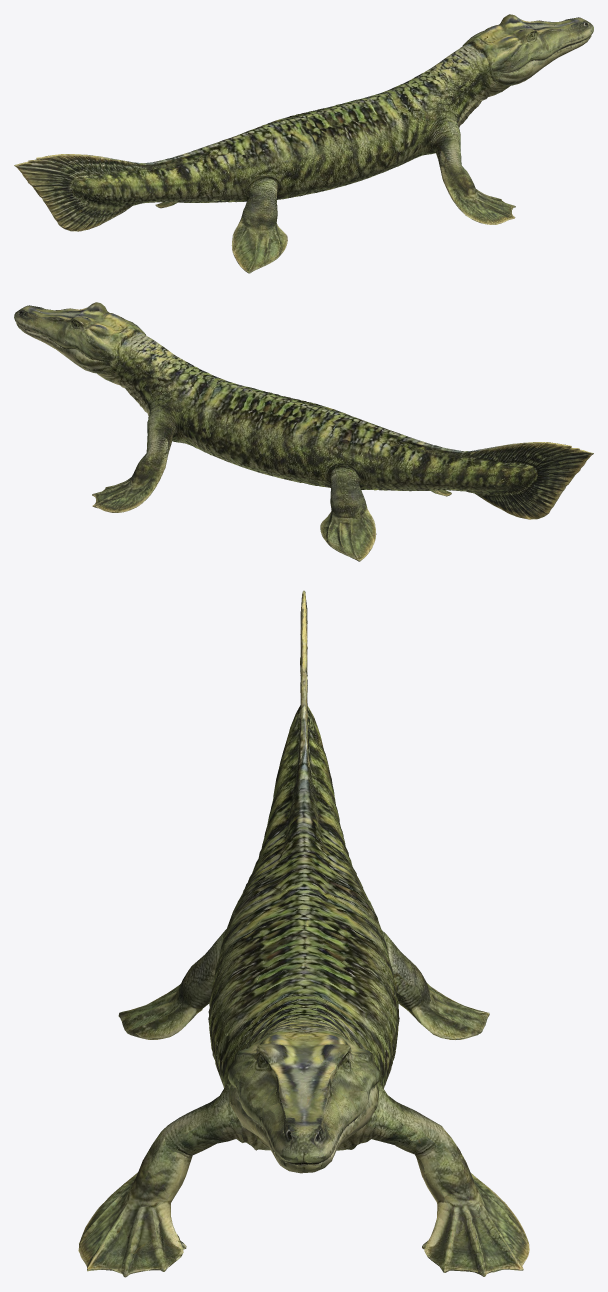
File: tiktaalik.glb
The picture shows the model from 3 angles, top to bottom: view 1: azimuth 30°, elevation 25°; view 2: azimuth 150°, elevation 25°; view 3: azimuth 270°, elevation 25°; orthographic projection. The views are drawn at different scales.
Visible parts, largest first — view 1: Mesh_0; view 2: Mesh_0; view 3: Mesh_0.
Boxes of the visible parts, left/top/right/bottom form: Mesh_0: left=14, top=14, right=593, bottom=273; Mesh_0: left=14, top=302, right=593, bottom=561; Mesh_0: left=78, top=590, right=529, bottom=1277.
Bounding box in the file's own units: 1 × 0.235 × 0.3381.
1 material, 1 textured.
